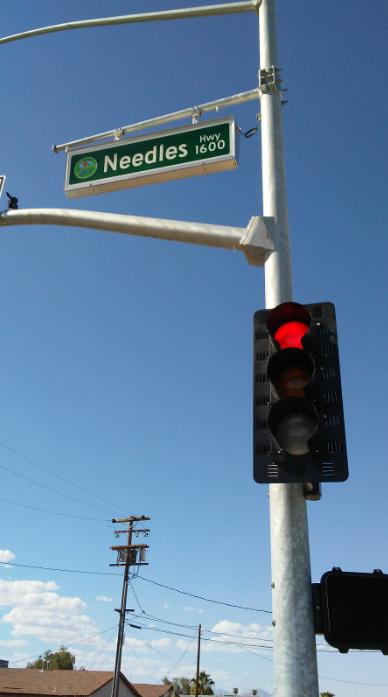red_light: (253, 299, 349, 484)
